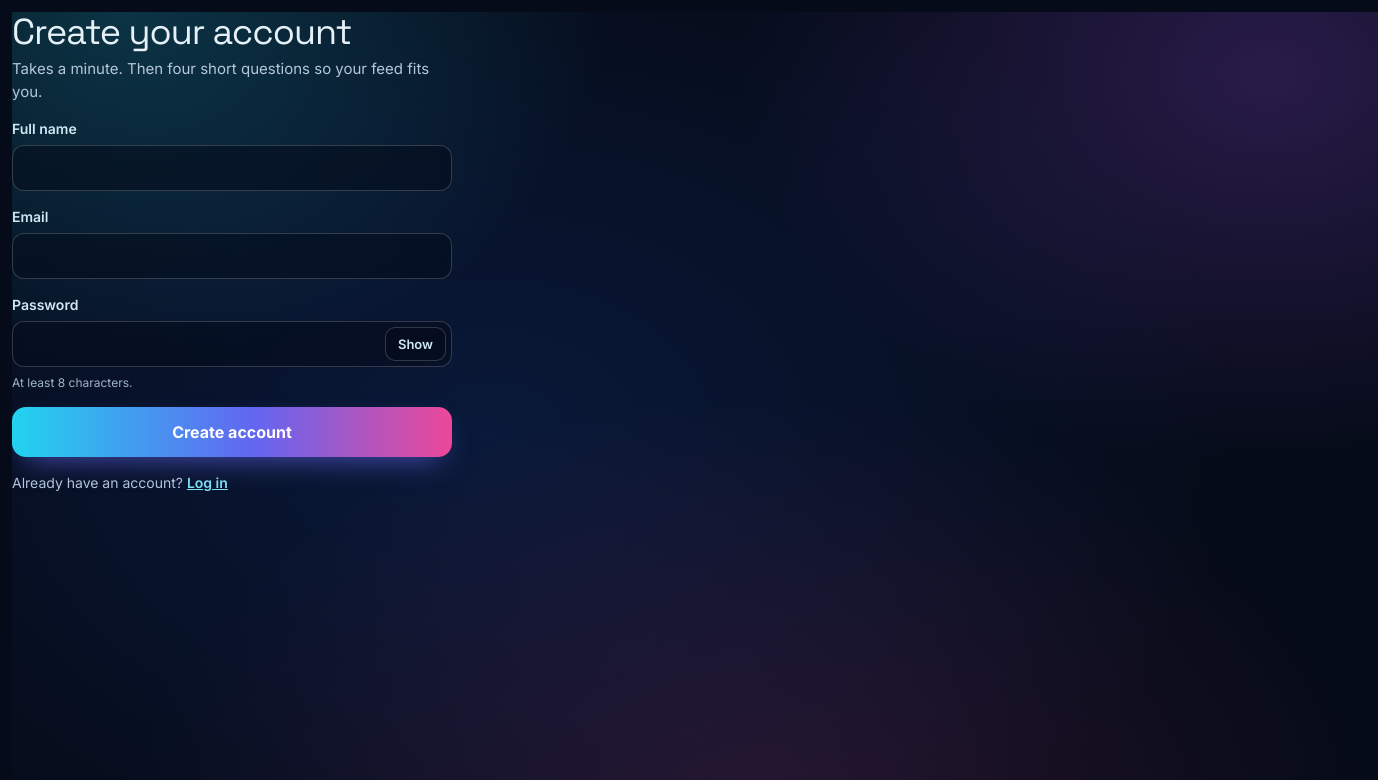
Test: AuthForm › tells the user when the email already has an account
Type "Rani" into the field labelled "Full name". click: {"x": 232, "y": 168}
box: left=12, top=145, right=452, bottom=191
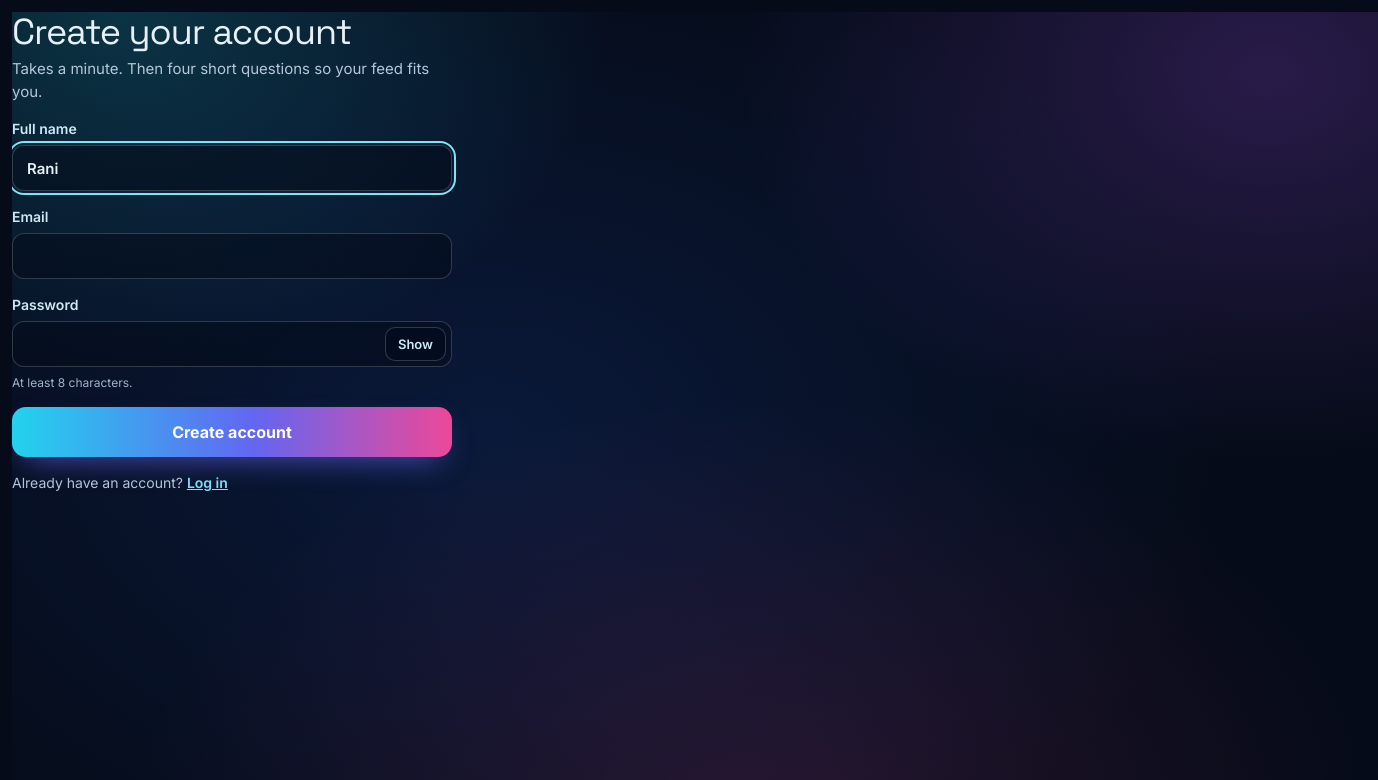
Type "rani@example.com" into the field labelled "Email". click: {"x": 232, "y": 256}
box: left=12, top=233, right=452, bottom=279
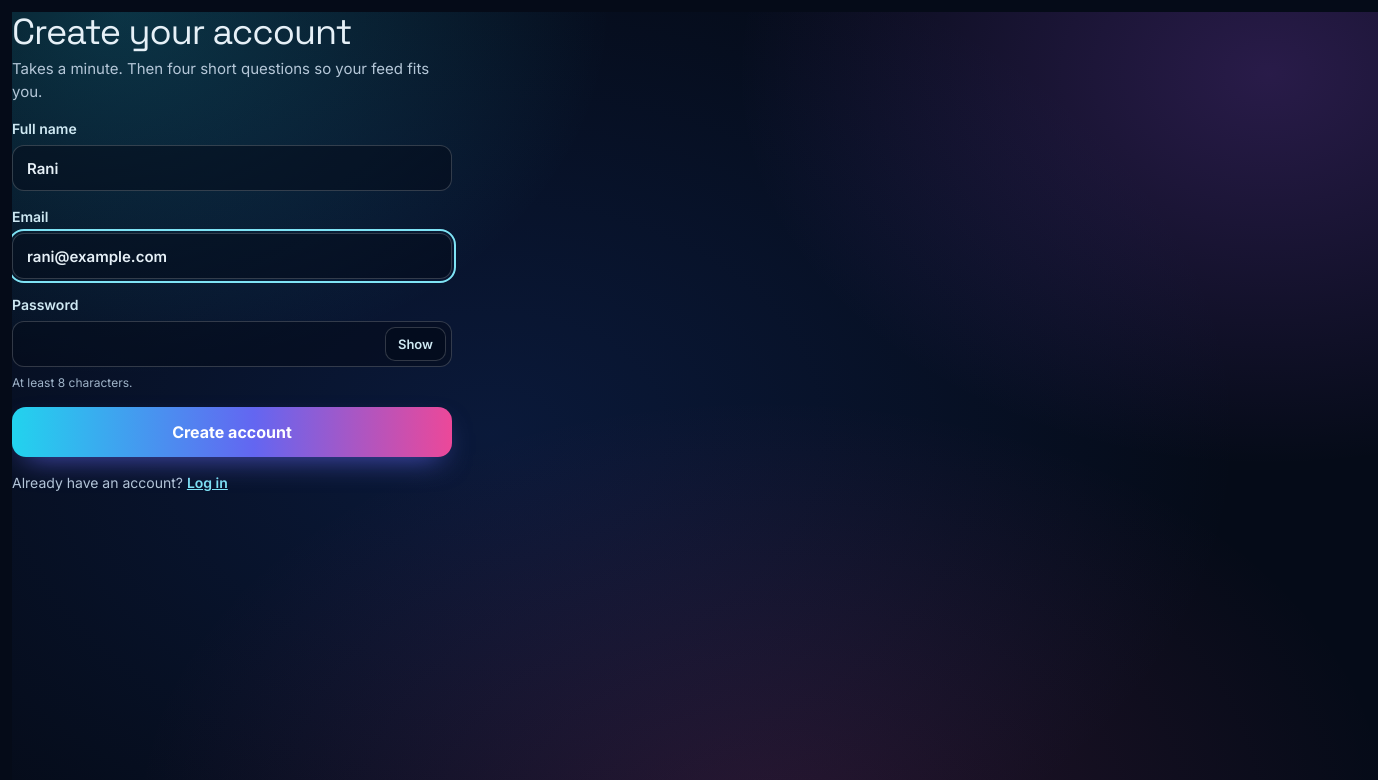
Type "longenough" into the password field labelled "Password". click: {"x": 232, "y": 344}
box: left=12, top=321, right=452, bottom=367
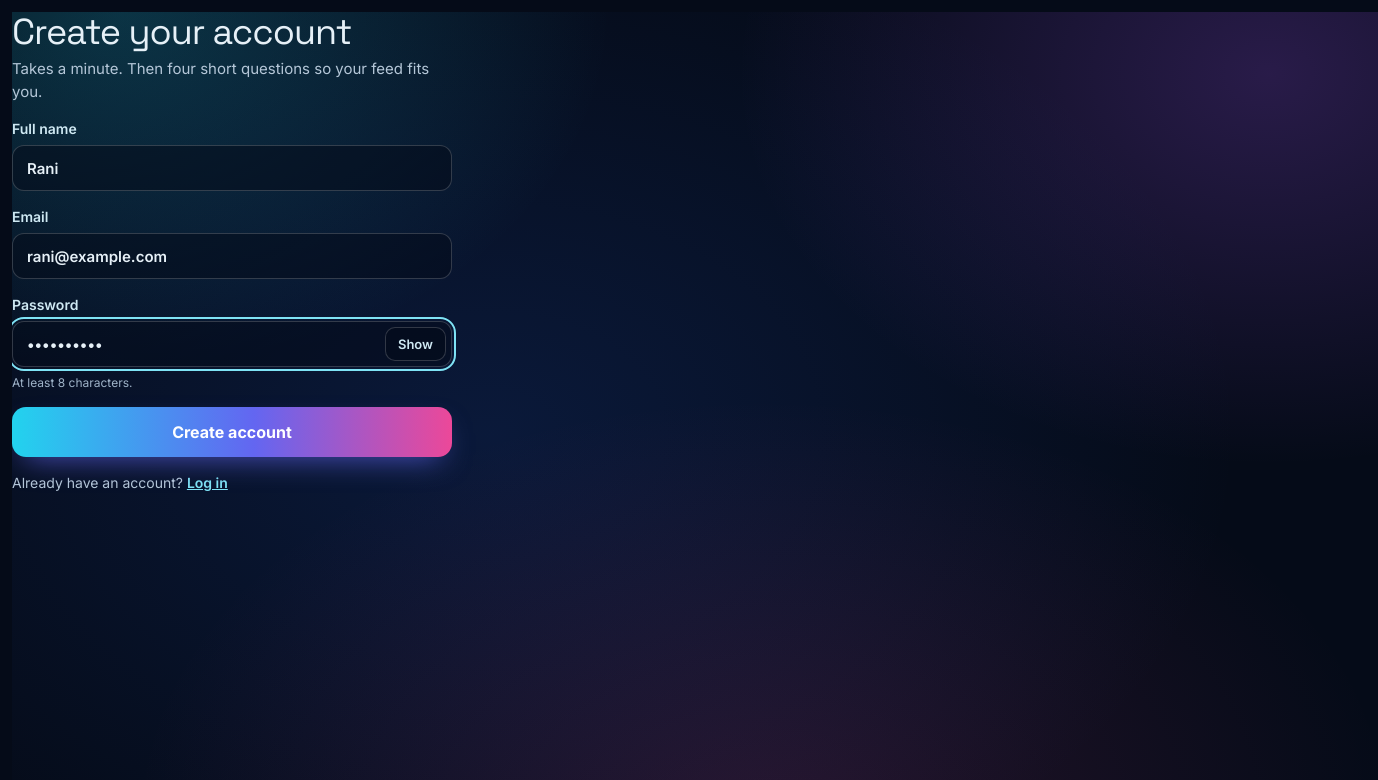
Click the button named "Create account". click: {"x": 232, "y": 432}
box: left=12, top=407, right=452, bottom=457
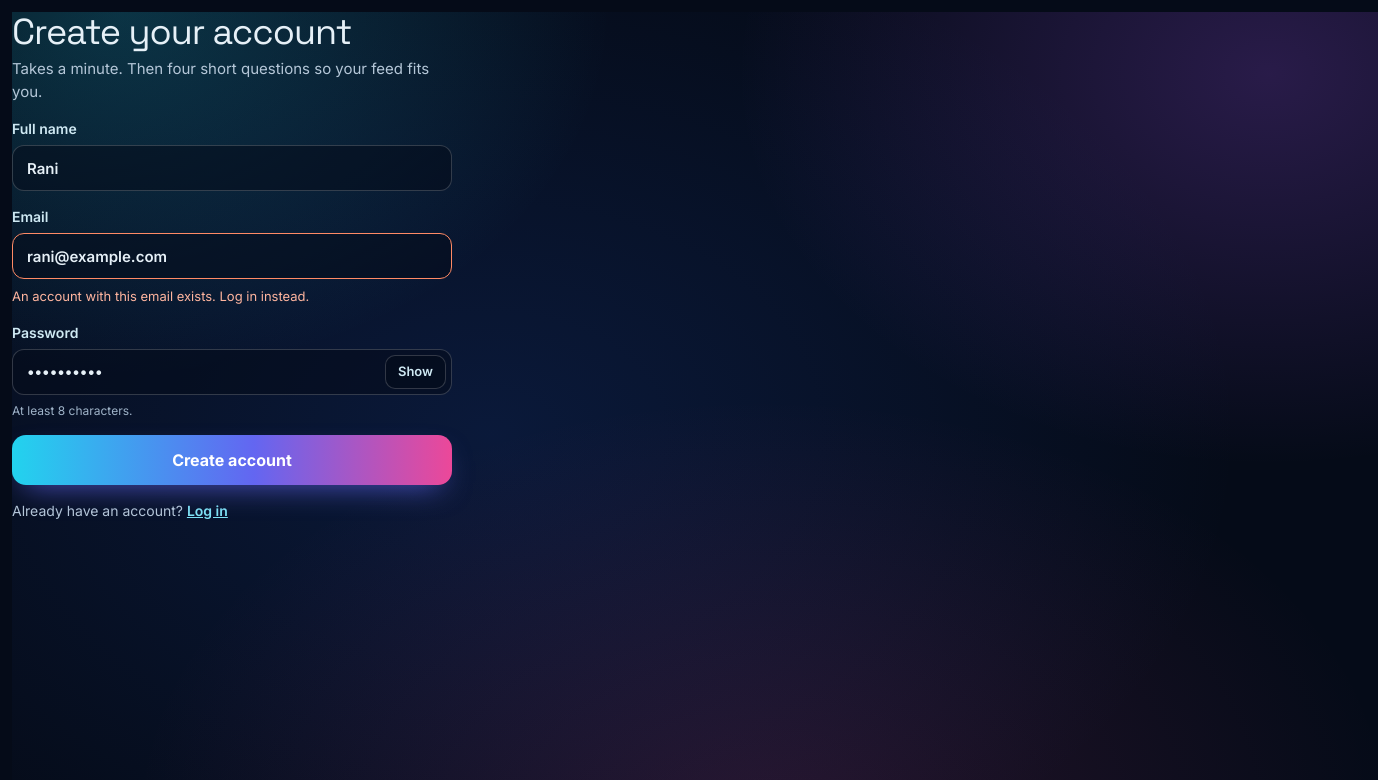
Check: the text "An account with this email exists. Log in instead." is shown, box left=12, top=288, right=309, bottom=304
